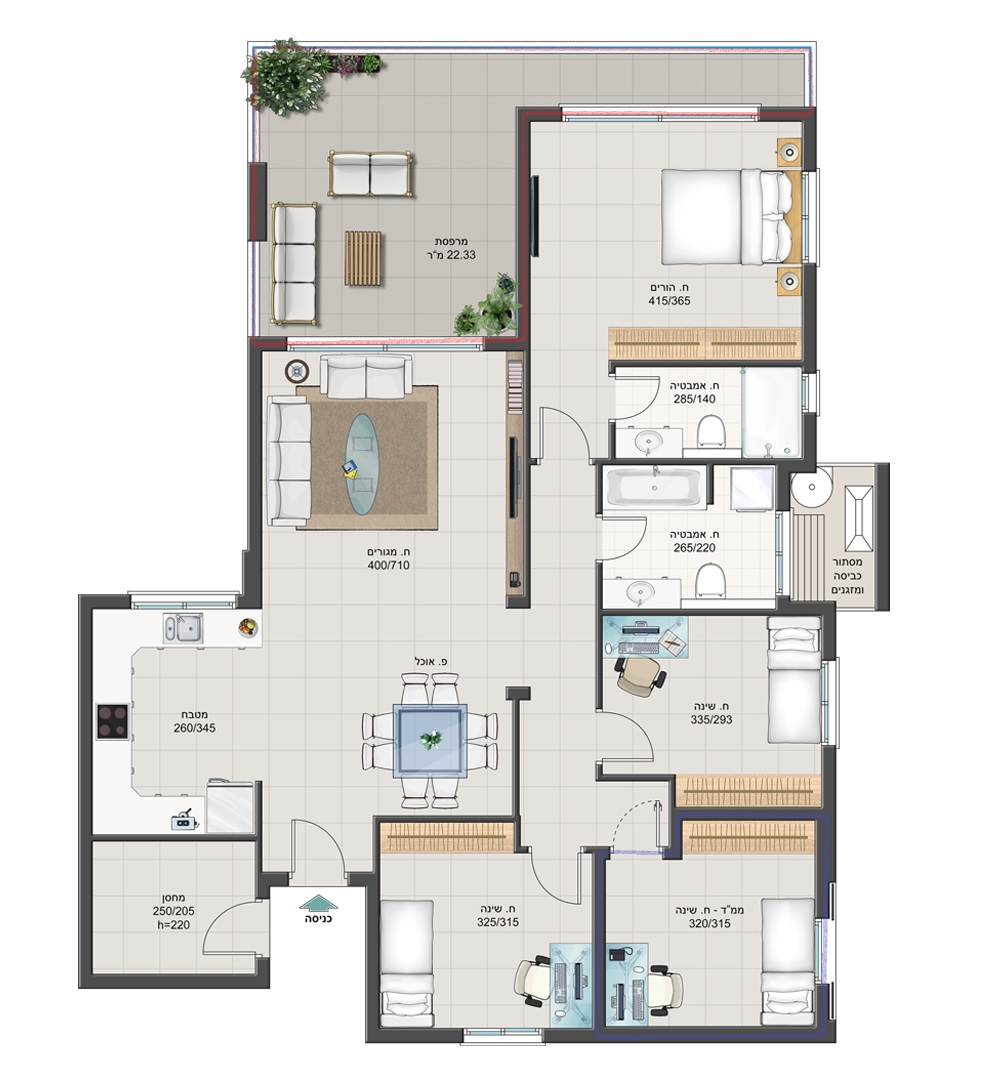balcony: (252, 42, 521, 344)
no: (517, 109, 811, 367), (532, 104, 812, 372), (254, 340, 526, 602), (371, 815, 599, 1034), (79, 599, 262, 844), (89, 837, 267, 979)
securityroom: (597, 852, 831, 1037)
